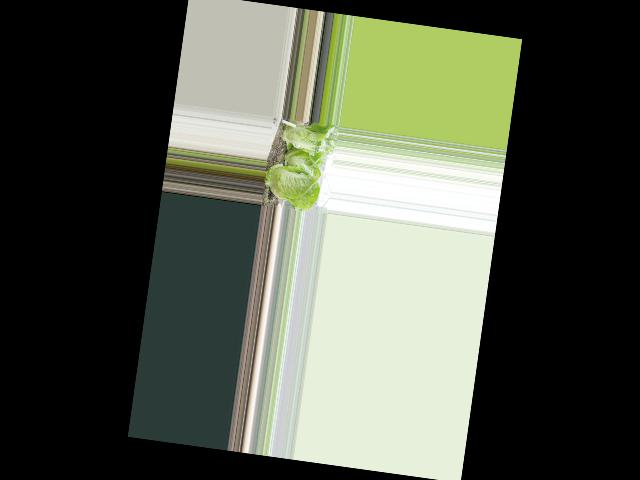lettuce: (273, 121, 333, 158)
